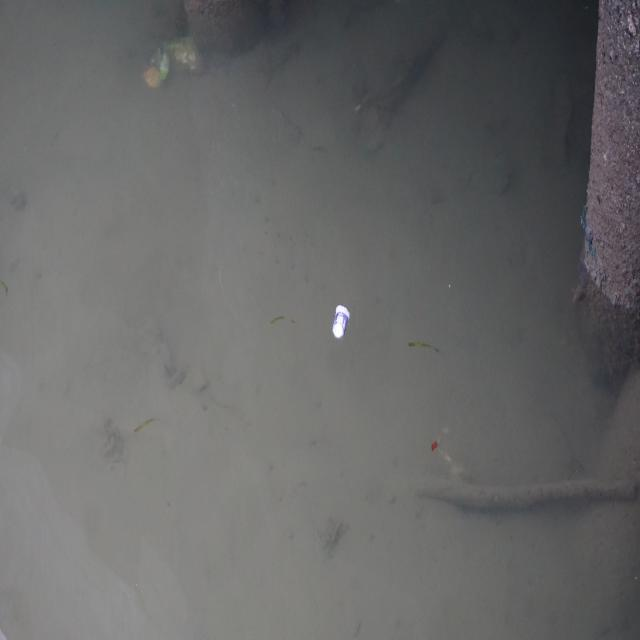Bungkus Minuman: (331, 302, 352, 345)
